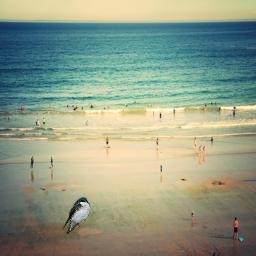Swallow: (62, 196, 91, 234)
